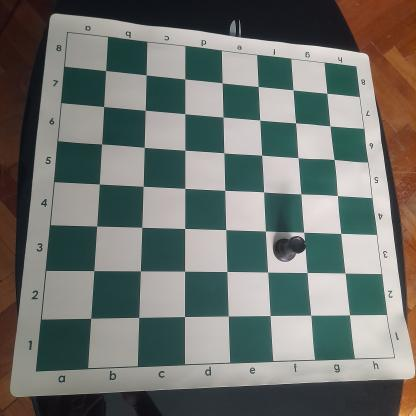black-rook: (272, 234, 306, 264)
